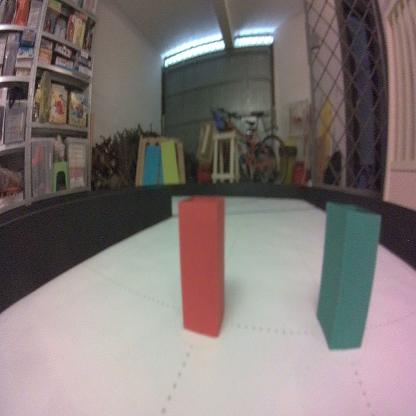green: (315, 202, 382, 355)
red: (178, 194, 226, 338)
